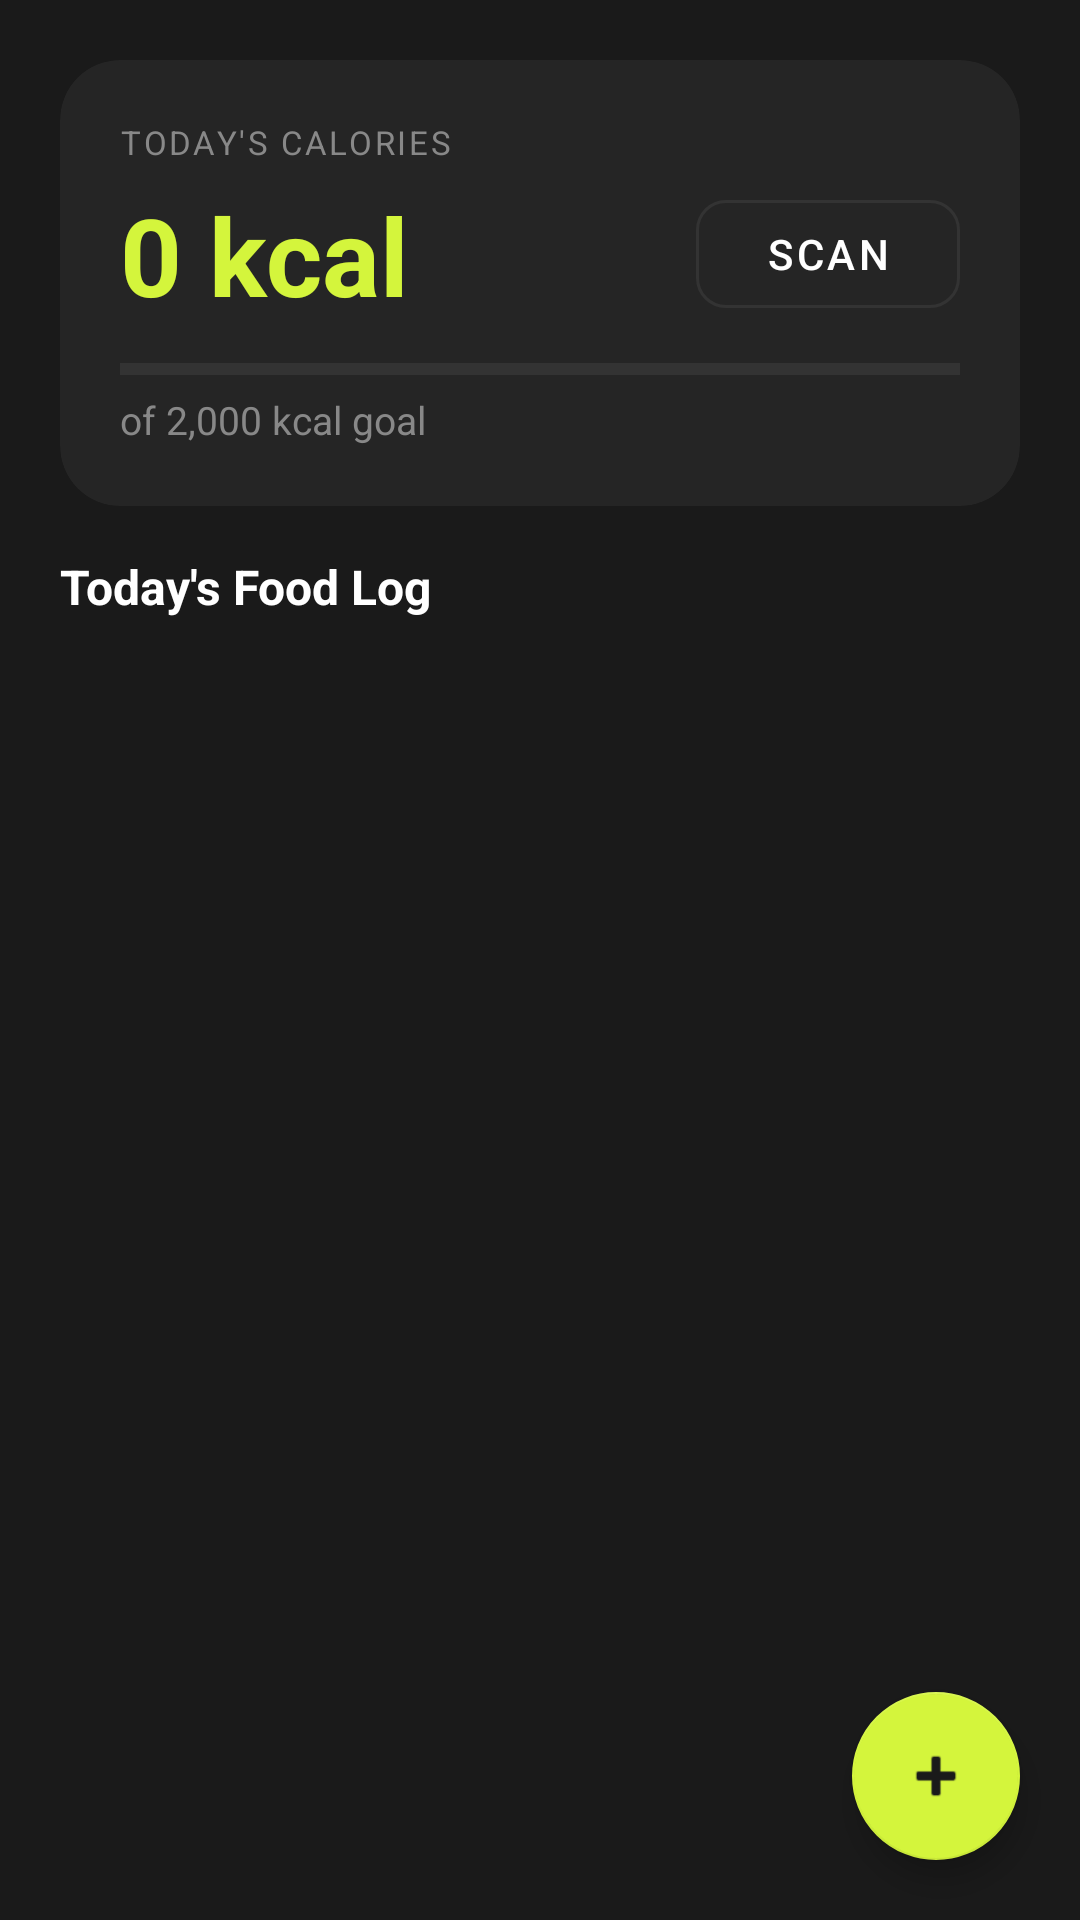

Where icons sit on this 1080 × 1920 app screen, as (x1, y1, x2, y2):
Add food: (852, 1692, 1020, 1860)
